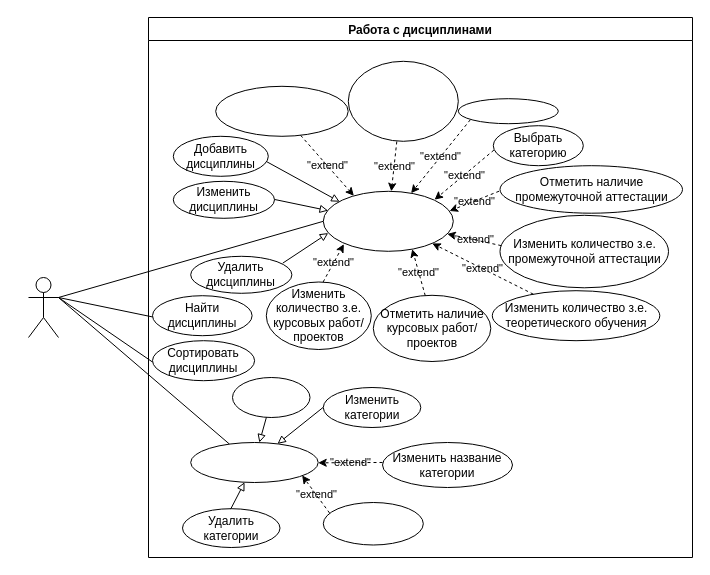
The diagram is 710 pixels wide and 575 high, and some of its shapes have lost their labels. The centre of each missing label's shape, as x and y in pixels:
"Выбрать блок" belongs at [507,111].
"Добавить категории" belongs at [271,397].
"Изменить название дисциплины" belongs at [281,110].
"Изменить сокращенное название дисциплины" belongs at [402,100].
"Изменить цвет категории" belongs at [372,523].
"Методист" belongs at [43,307].
"Редактировать дисциплины" belongs at [387,220].
"Редактировать категории" belongs at [254,462].
